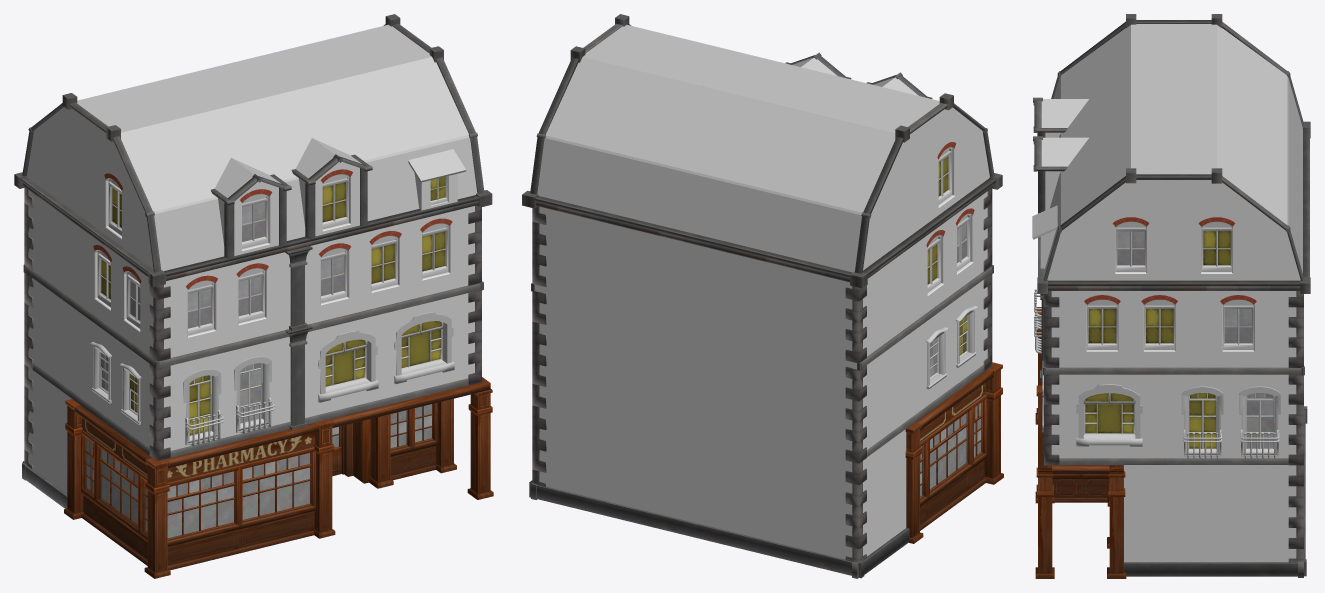
The model's file is Building_10_Pharmacy.fbx.
The picture shows the model from 3 angles, left to right: view 1: azimuth 30°, elevation 25°; view 2: azimuth 150°, elevation 25°; view 3: azimuth 270°, elevation 25°; orthographic projection. The views are drawn at different scales.
Parts seen in each view (by area): view 1: Roof_01, Wall_01.008, Base, Wall_02.007, Trim_01, Trim_04, Trim_02, Roof_02; view 2: Wall_04.005, Roof_02, Wall_02.007, Roof_01, Base, Trim_04, Trim_03, Trim_01; view 3: Wall_03.009, Roof_01, Roof_02, Base, Trim_03, Trim_02, Wall_01.008.
Part boxes in pixels (x1=…): Roof_01: x1=69, y1=23, x2=492, y2=286; Wall_01.008: x1=155, y1=206, x2=483, y2=457; Base: x1=64, y1=377, x2=493, y2=578; Wall_02.007: x1=21, y1=107, x2=155, y2=508; Trim_01: x1=149, y1=284, x2=170, y2=461; Trim_04: x1=22, y1=187, x2=33, y2=480; Trim_02: x1=468, y1=205, x2=481, y2=385; Roof_02: x1=14, y1=14, x2=400, y2=188; Wall_04.005: x1=535, y1=207, x2=856, y2=575; Roof_02: x1=522, y1=46, x2=909, y2=288; Wall_02.007: x1=857, y1=107, x2=995, y2=577; Roof_01: x1=583, y1=14, x2=1002, y2=189; Base: x1=905, y1=362, x2=1003, y2=543; Trim_04: x1=845, y1=285, x2=866, y2=578; Trim_03: x1=529, y1=206, x2=546, y2=499; Trim_01: x1=983, y1=188, x2=992, y2=371; Wall_03.009: x1=1046, y1=180, x2=1304, y2=576; Roof_01: x1=1032, y1=14, x2=1216, y2=293; Roof_02: x1=1211, y1=14, x2=1310, y2=293; Base: x1=1035, y1=307, x2=1126, y2=578; Trim_03: x1=1288, y1=291, x2=1306, y2=577; Trim_02: x1=1044, y1=291, x2=1059, y2=465; Wall_01.008: x1=1034, y1=289, x2=1045, y2=432.
Size of what is drawn, in the model's own units: 13.47 by 15.62 by 9.71.
